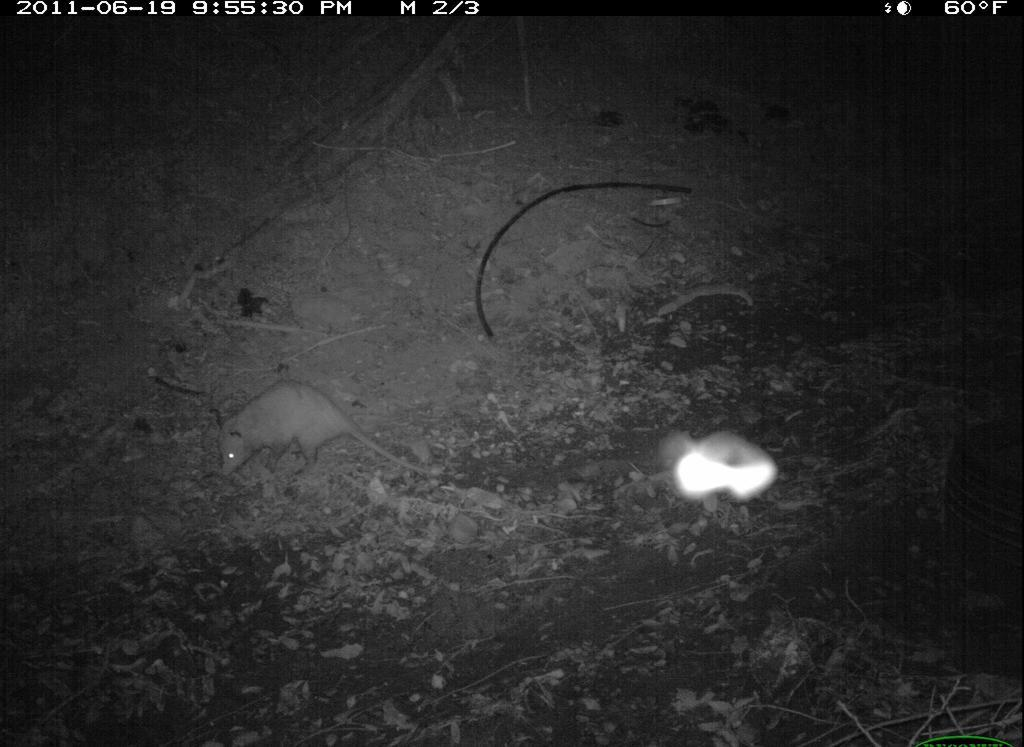opossum: (202, 370, 461, 507)
